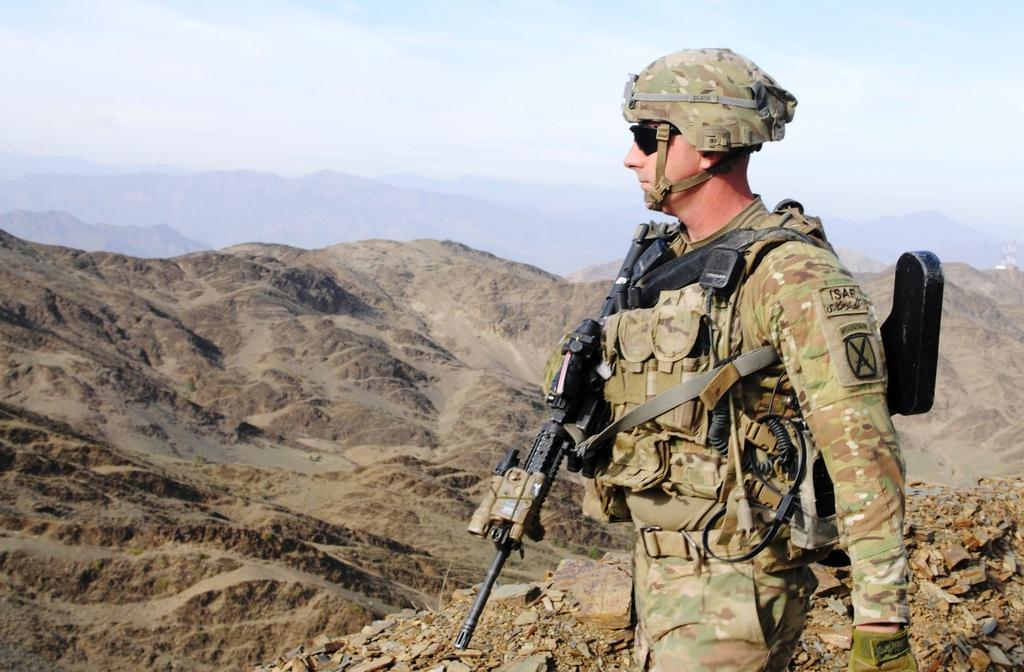Rifle: (456, 332, 657, 629)
